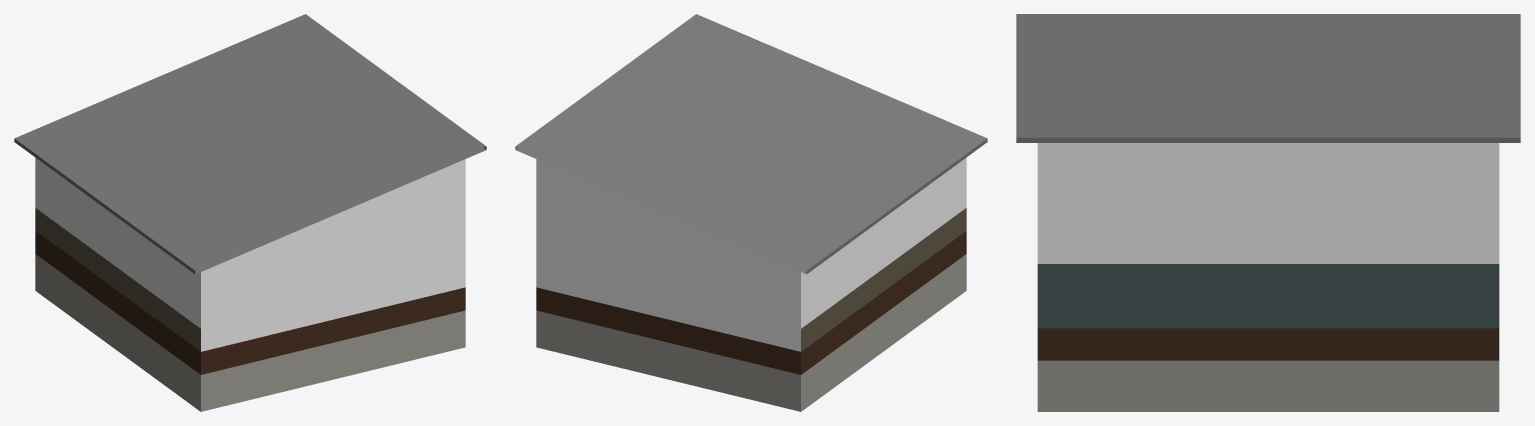
File: far.fbx
3 renders of one model, left to right at view 1: azimuth 30°, elevation 25°; view 2: azimuth 150°, elevation 25°; view 3: azimuth 270°, elevation 25°, orthographic. The views are drawn at different scales.
Parts seen in each view (by area): view 1: a2015/800/far; view 2: a2015/800/far; view 3: a2015/800/far.
Boxes of the visible parts, x1=… form: a2015/800/far: x1=14, y1=14, x2=486, y2=411; a2015/800/far: x1=515, y1=14, x2=987, y2=411; a2015/800/far: x1=1016, y1=14, x2=1520, y2=411.
Bounding box in the file's own units: 6.6 × 4.4 × 7.1.
